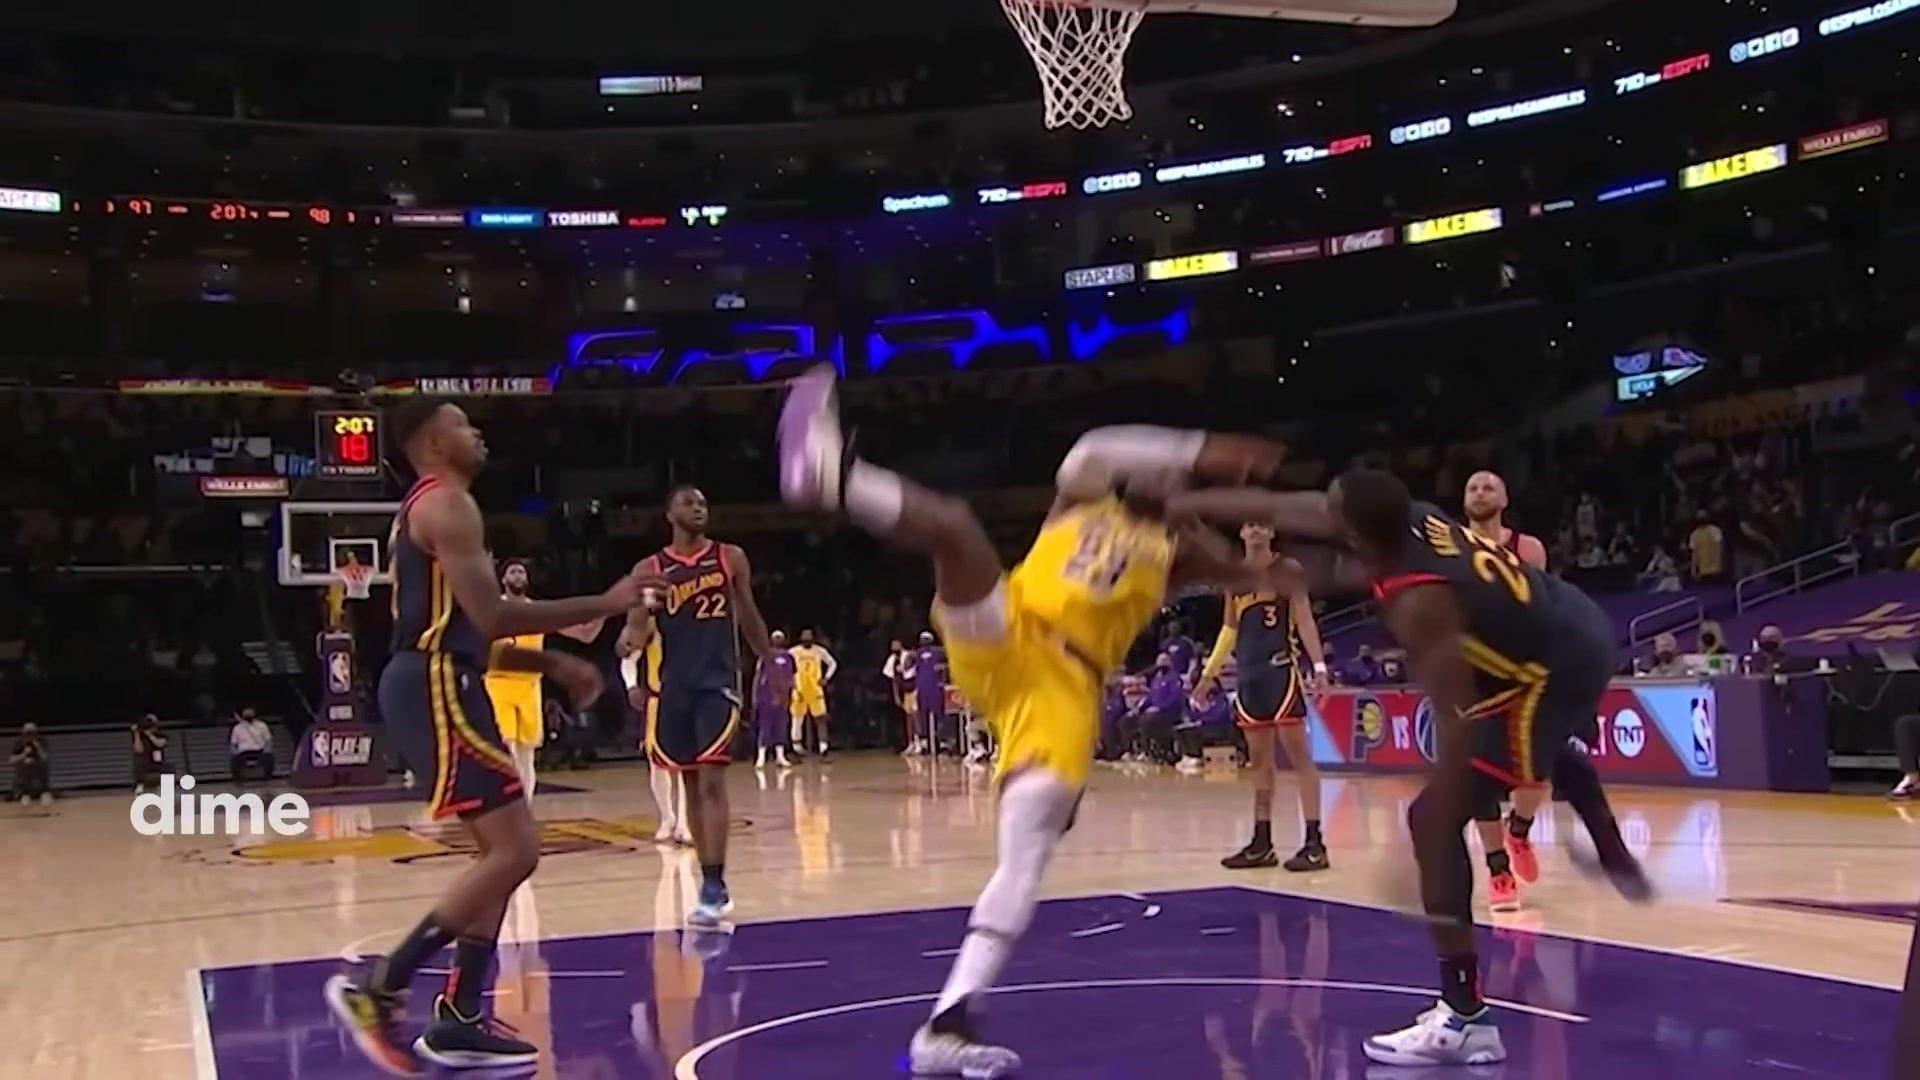foul: (803, 352, 1606, 1029)
